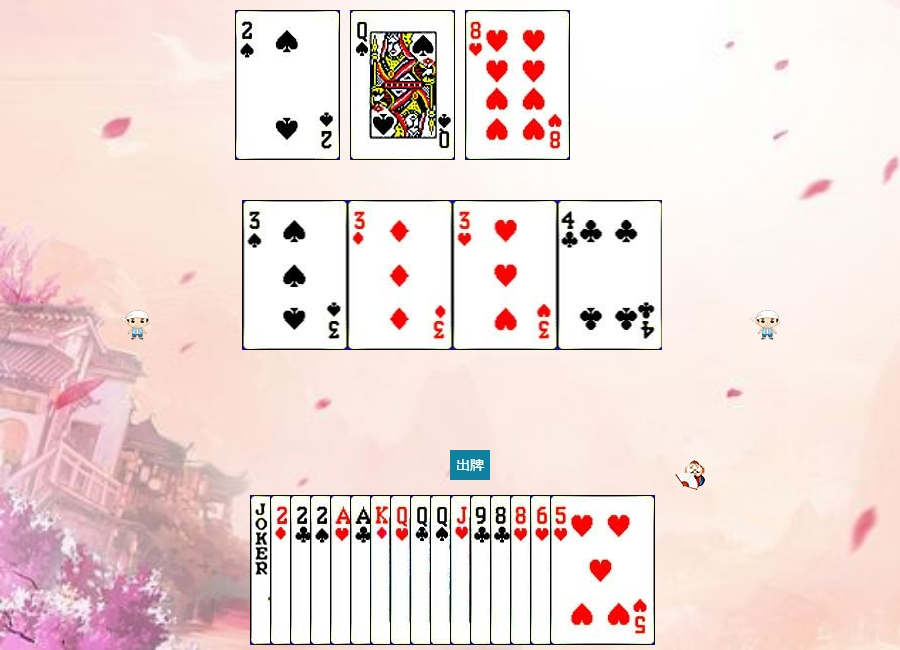11~3: (450, 495, 555, 645)
12~2: (410, 495, 515, 645)
12~3: (390, 495, 495, 645)
12~4: (350, 10, 455, 160), (430, 495, 535, 645)
13~1: (370, 495, 475, 645)
14~2: (350, 495, 455, 645)
14~3: (330, 495, 435, 645)
15~1: (270, 495, 375, 645)
15~2: (290, 495, 395, 645)
15~4: (235, 10, 340, 160), (310, 495, 415, 645)
17~3: (250, 495, 355, 645)
3~1: (348, 200, 453, 350)
3~3: (453, 200, 558, 350)
3~4: (243, 200, 348, 350)
4~2: (558, 200, 663, 350)
5~3: (550, 495, 655, 645)
6~3: (530, 495, 635, 645)
8~2: (490, 495, 595, 645)
8~3: (465, 10, 570, 160), (510, 495, 615, 645)
9~2: (470, 495, 575, 645)
